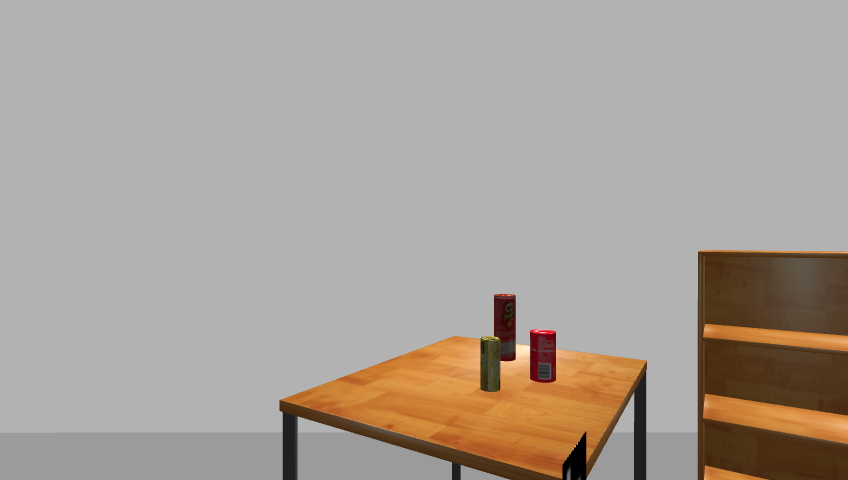aruco marker: (559, 433, 590, 480)
biscuits pack: (479, 336, 501, 393)
bookshelf: (691, 248, 848, 479)
coke can: (529, 329, 557, 383)
dinner table: (272, 335, 658, 480)
pringles can: (490, 292, 518, 363)
